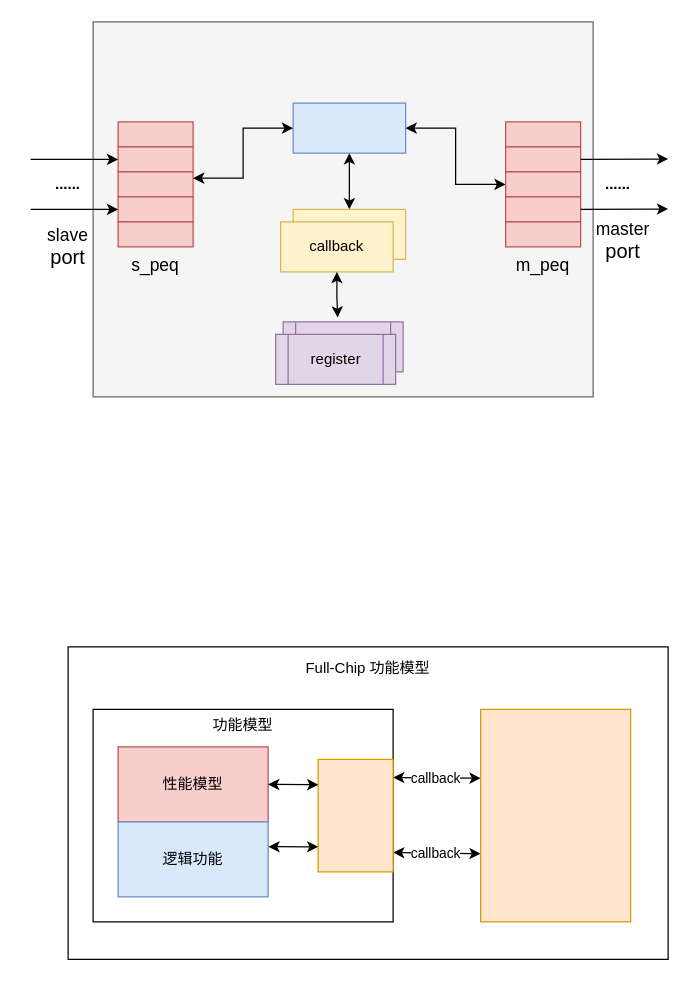
Some shapes in this 700 by 981 pixel diagram are drawn without their labels. The centre of each missing label's shape, as x and y in pixels:
control logic: the point at 349,127
寄存器功模型: the point at 355,815
寄存器文件: the point at 555,815
